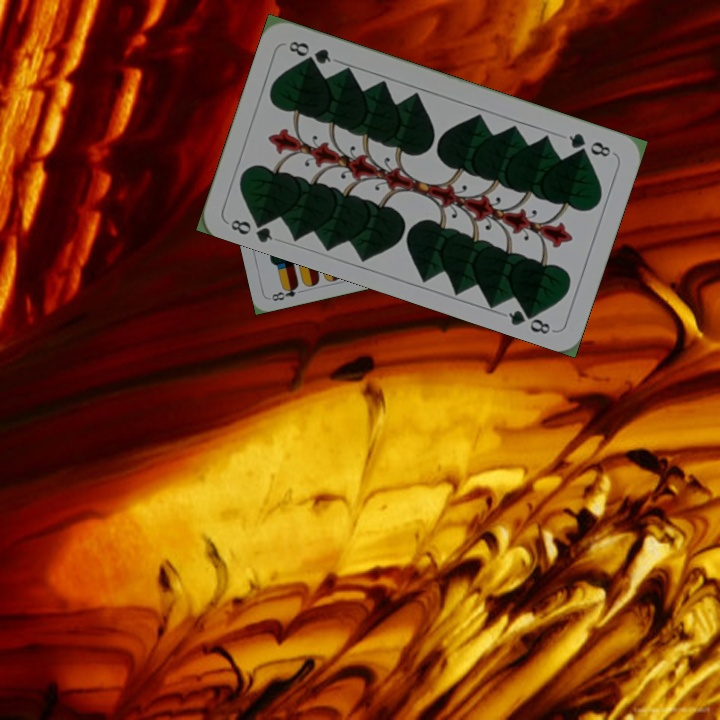E8: (267, 280, 301, 304)
G8: (226, 212, 276, 245), (564, 129, 614, 160)
